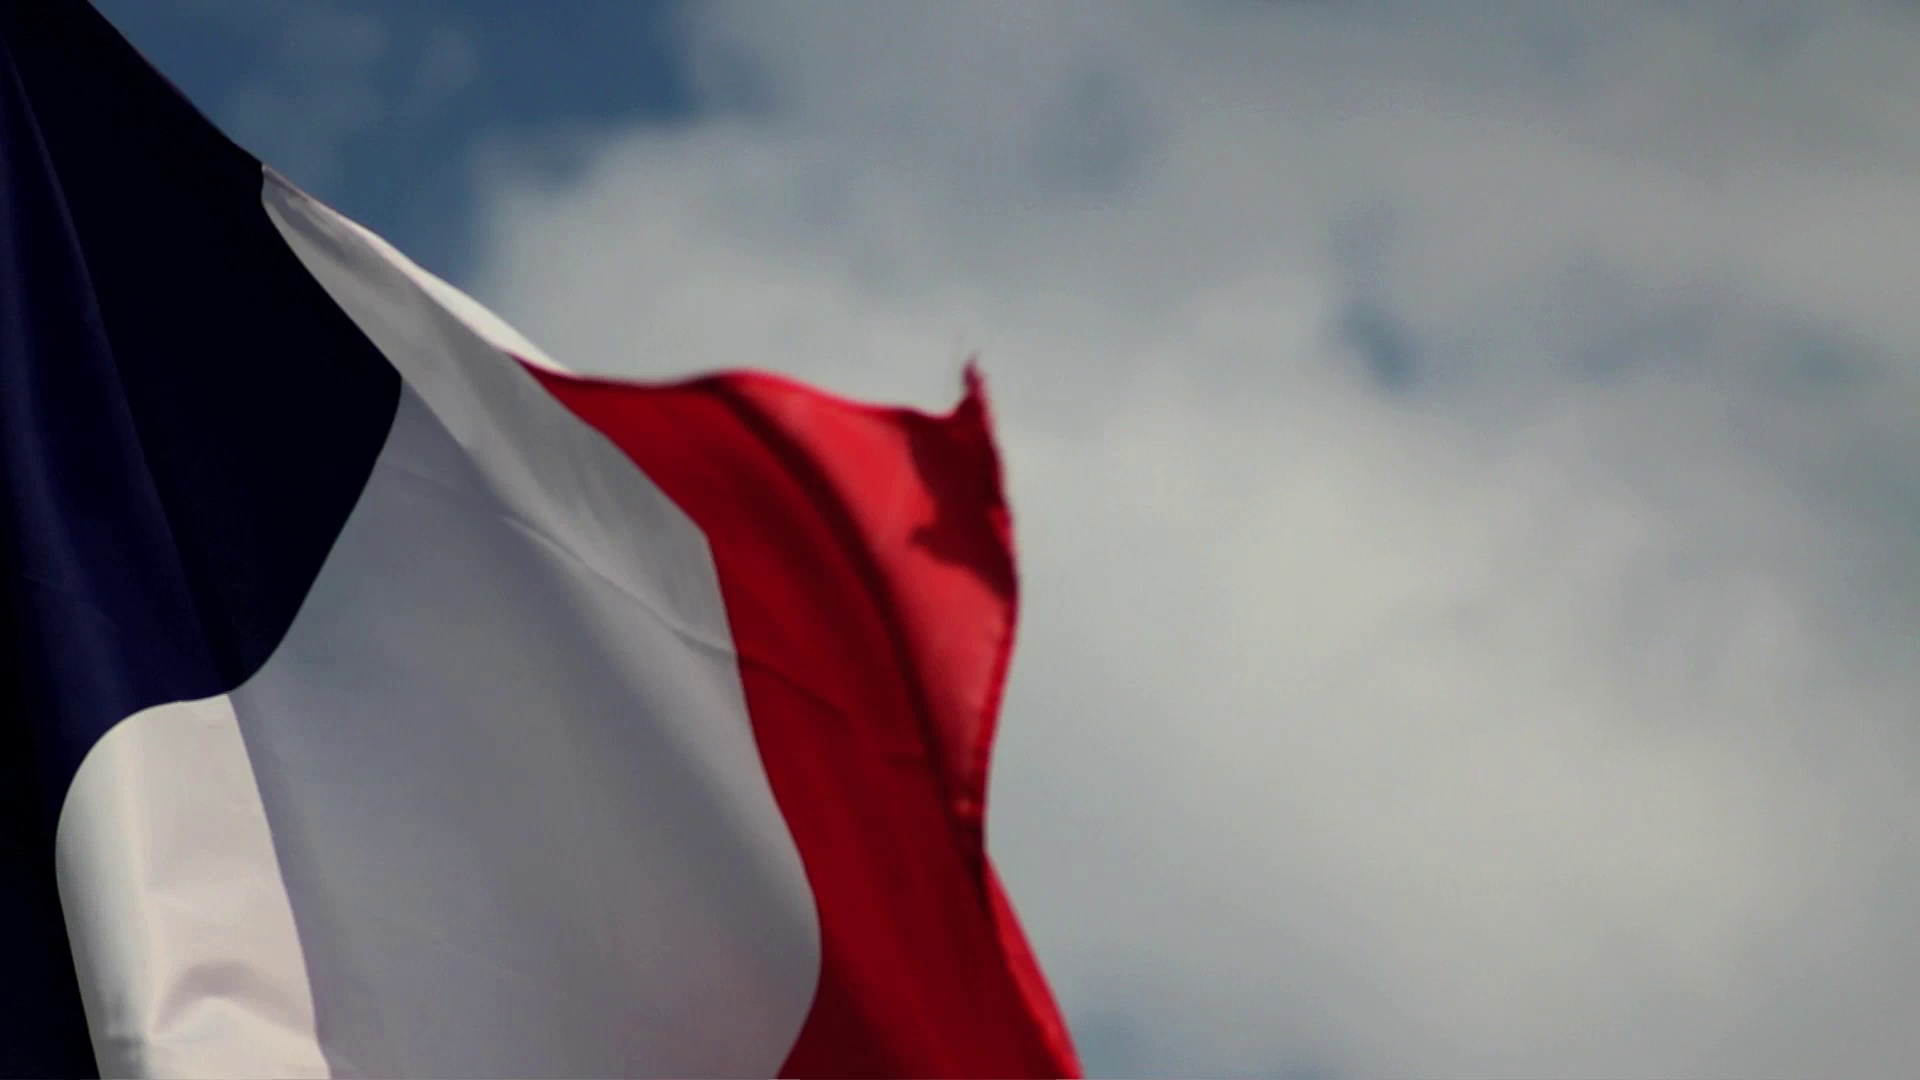French Flag: (1, 1, 1079, 1080)
